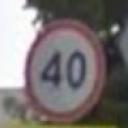speed_limit_40: (22, 20, 110, 124)
